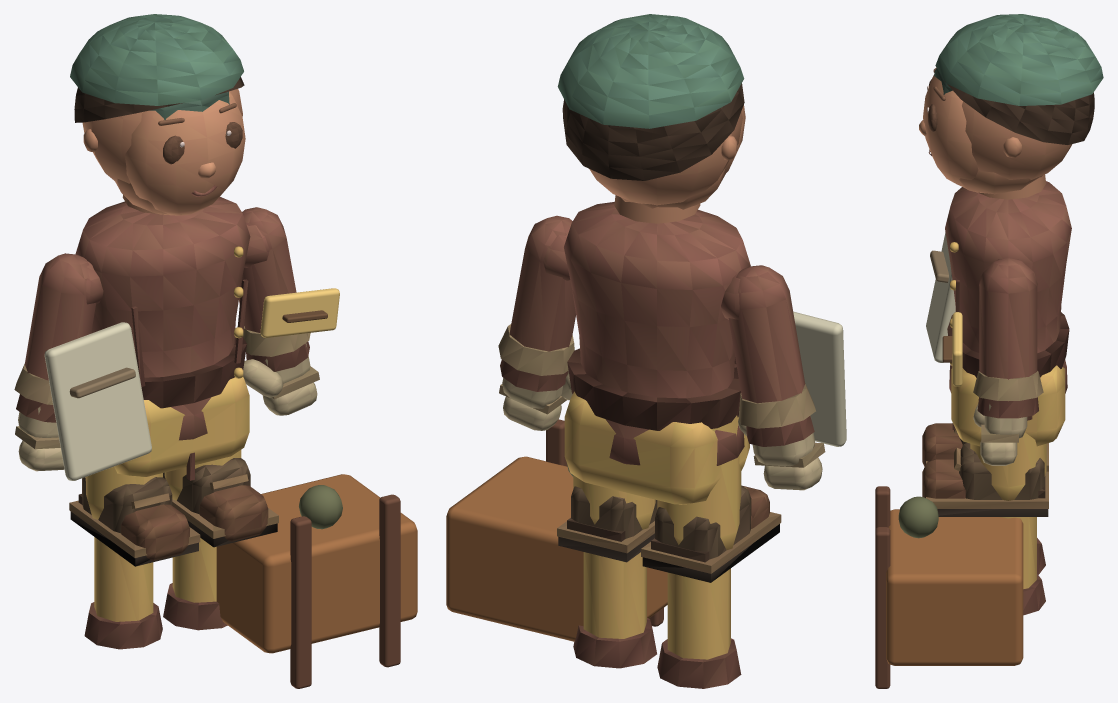
Rendered from choi-minseo.glb.
3 renders of one model, left to right at view 1: azimuth 30°, elevation 25°; view 2: azimuth 150°, elevation 25°; view 3: azimuth 270°, elevation 25°, orthographic. The views are drawn at different scales.
Visible parts, largest first — view 1: coat, legs, marketSampleCrate, figureDetail, hat, marketLedger, trousers, armLeftMesh, armRightMesh, handRightMesh, marketCrateSlatRight, marketCrateSlatLeft (+4 smaller); view 2: coat, legs, marketSampleCrate, hat, figureDetail, trousers, armLeftMesh, armRightMesh, marketLedger, handLeftMesh, handRightMesh, neck (+1 smaller); view 3: marketSampleCrate, coat, figureDetail, hat, legs, armRightMesh, trousers, handRightMesh, marketCrateSlatRight, marketLedger, marketGrapeSample, premiumPriceTag (+3 smaller).
Part boxes in pixels (x1,y1,x2,y2): coat: [75, 197, 250, 440]; legs: [69, 450, 278, 649]; marketSampleCrate: [216, 474, 417, 653]; figureDetail: [74, 77, 245, 215]; hat: [70, 14, 243, 119]; marketLedger: [44, 322, 151, 480]; trousers: [114, 377, 249, 480]; armLeftMesh: [16, 253, 103, 422]; armRightMesh: [239, 207, 309, 371]; handRightMesh: [243, 326, 319, 415]; marketCrateSlatRight: [379, 494, 400, 667]; marketCrateSlatLeft: [290, 516, 311, 688]; coat: [564, 202, 750, 465]; legs: [557, 415, 781, 688]; marketSampleCrate: [446, 456, 667, 641]; hat: [557, 14, 744, 128]; figureDetail: [562, 83, 745, 209]; trousers: [564, 391, 749, 504]; armLeftMesh: [721, 265, 814, 446]; armRightMesh: [500, 215, 575, 391]; marketLedger: [793, 311, 846, 446]; handLeftMesh: [738, 383, 825, 490]; handRightMesh: [498, 324, 574, 430]; neck: [614, 195, 700, 223]; marketSampleCrate: [886, 509, 1023, 665]; coat: [945, 181, 1071, 420]; figureDetail: [919, 67, 1094, 194]; hat: [934, 14, 1103, 105]; legs: [922, 423, 1048, 615]; armRightMesh: [977, 258, 1038, 418]; trousers: [951, 365, 1065, 446]; handRightMesh: [973, 371, 1043, 465]; marketCrateSlatRight: [875, 527, 890, 688]; marketLedger: [926, 232, 955, 362]; marketGrapeSample: [898, 496, 938, 538]; premiumPriceTag: [952, 312, 962, 386].
Size of the model in its own units: 1.23 by 2.17 by 0.7634.
